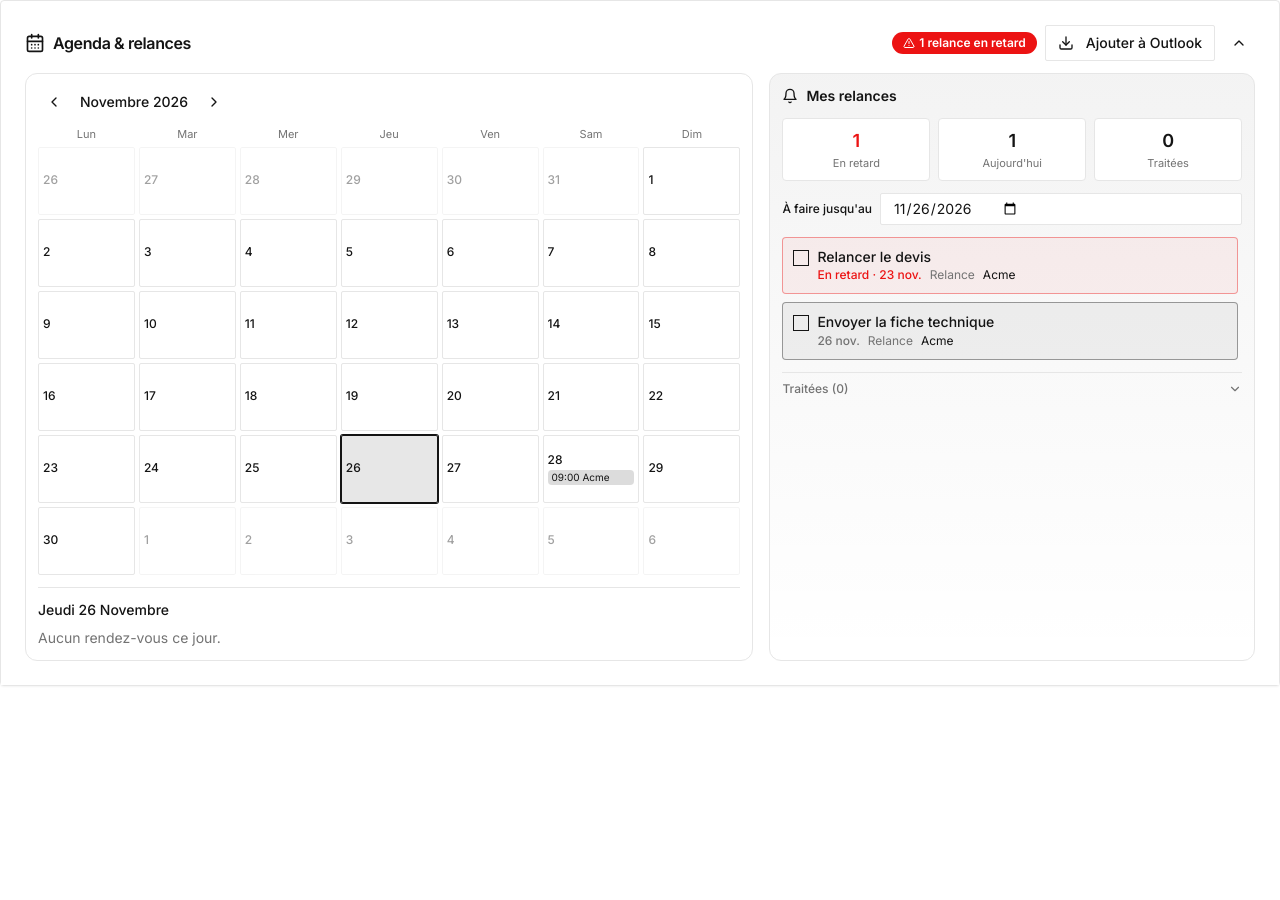
Test: agenda et relances › se replie sur les prochaines relances et mémorise le choix
Click the button named "Replier l'agenda" at {"x": 1239, "y": 43}, box [1223,27,1255,59]
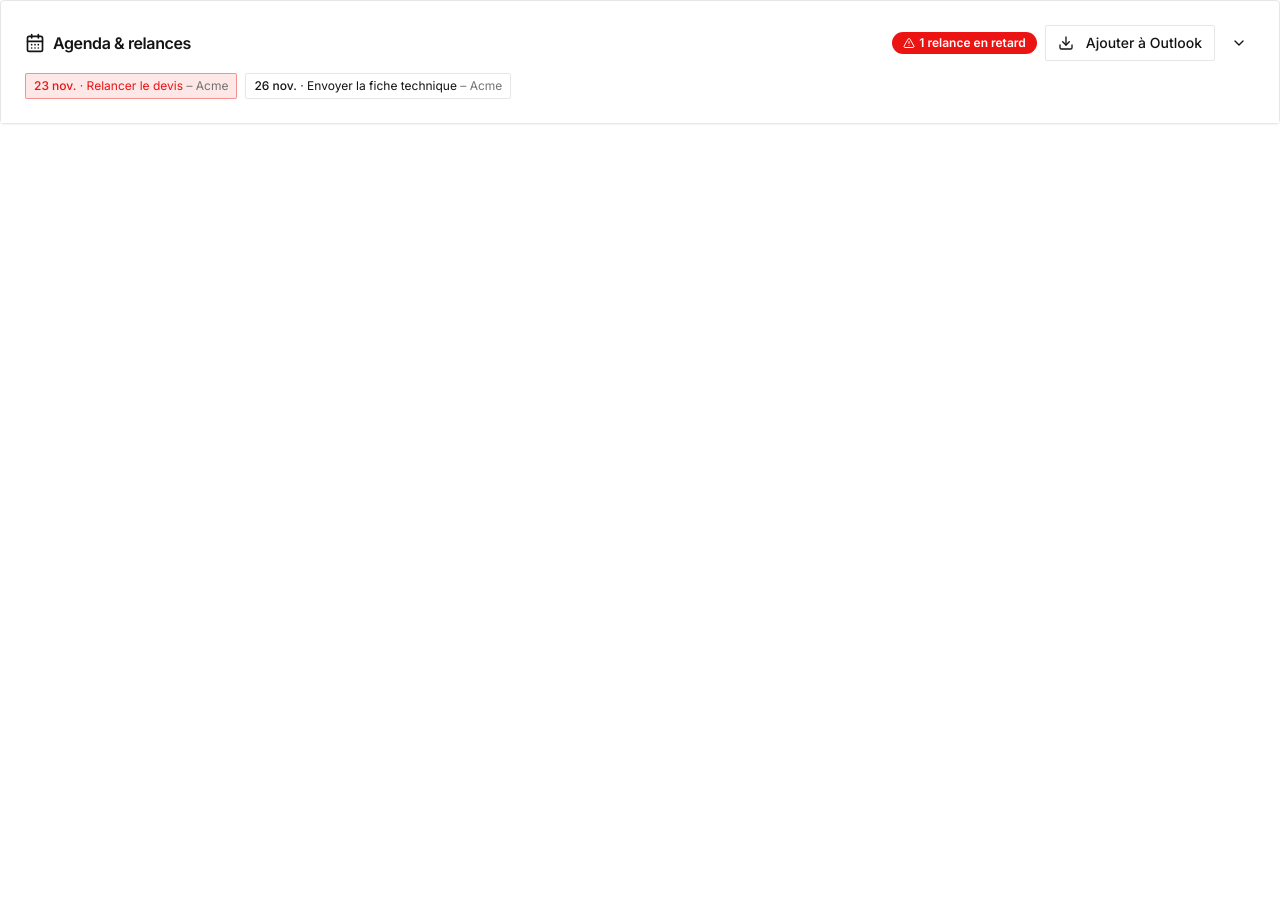
Expected: the text "Lun" is gone
Expected: the button "23 nov. · Relancer le devis – Acme" is shown, [25,73,237,99]
Expected: the checkbox is gone
